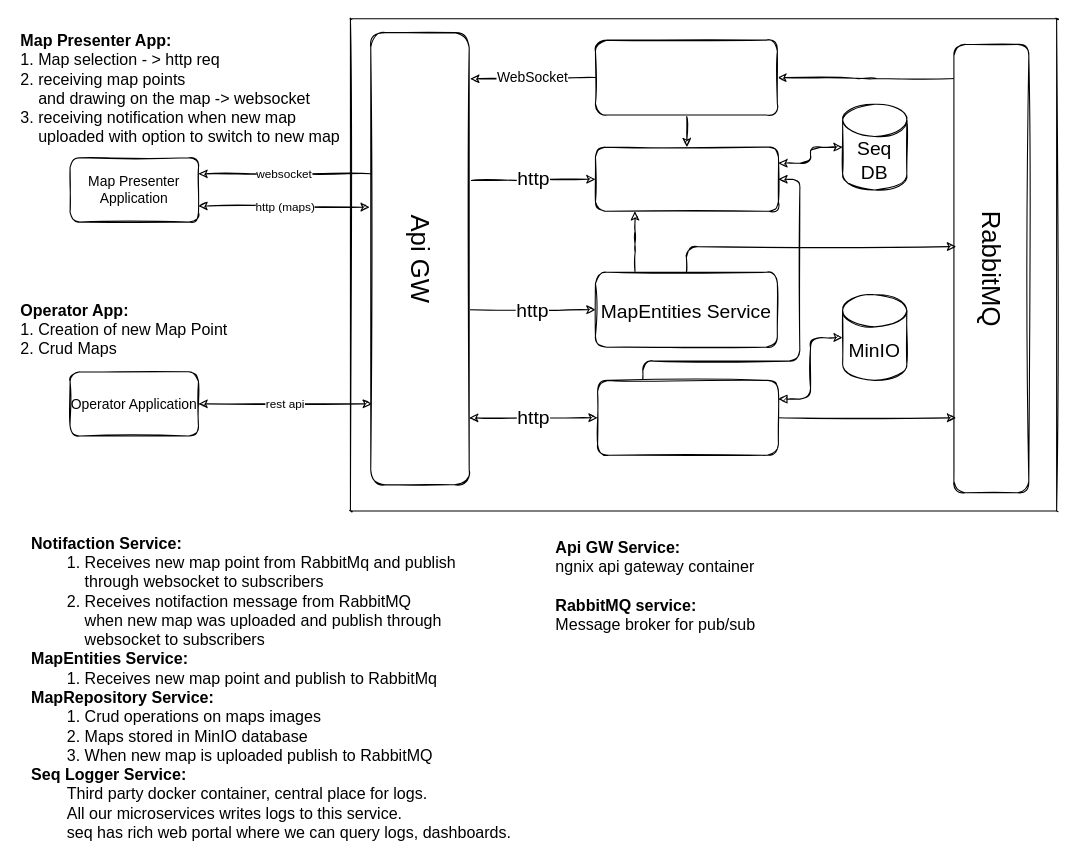
Some shapes in this 1075 by 861 pixel diagram are drawn without their labels. Each missing label, with the box of its shape:
MapsRepository Service: (597, 379, 778, 455)
Notifications Service: (594, 39, 777, 115)
Seq Logger Service: (594, 146, 778, 211)
